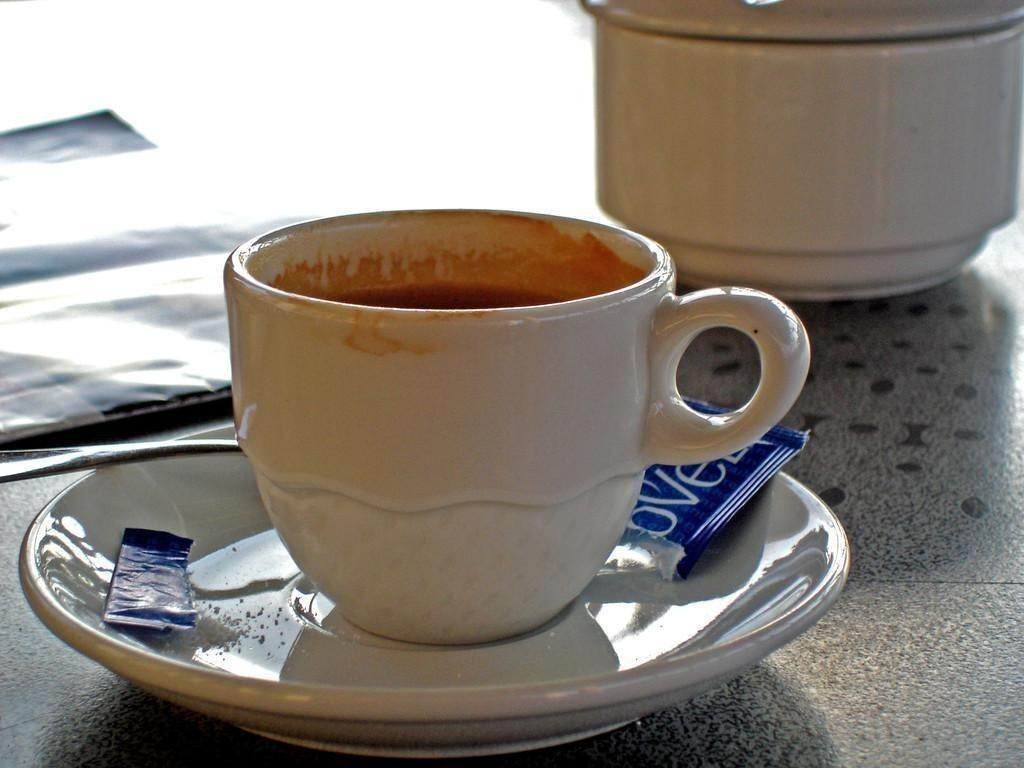cup-handle: (220, 203, 813, 650)
